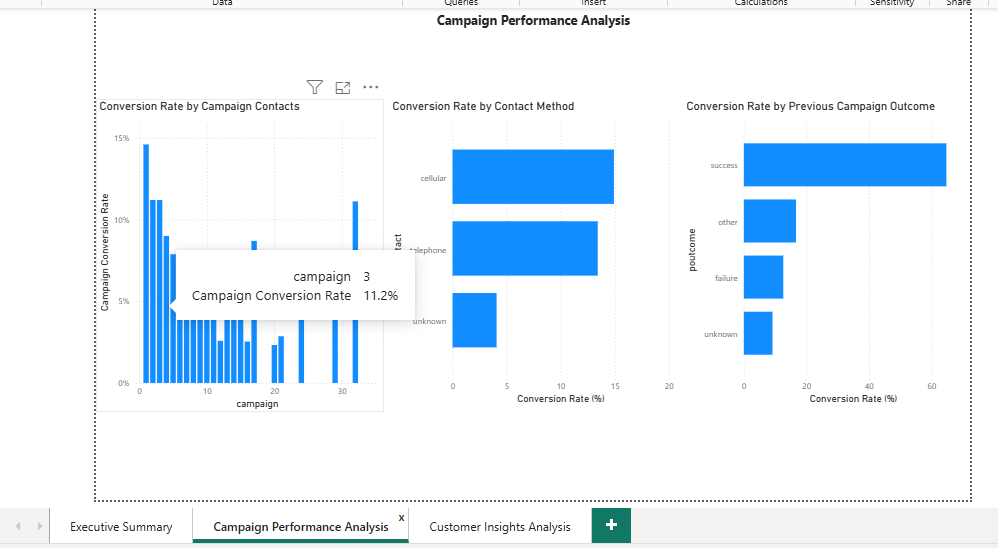

The dashboard page shown, as its layout file describes it:
{"tool":"powerbi","page":{"name":"Campaign Performance Analysis","canvas":[1280,720],"ordinal":1},"visuals":[{"type":"textbox","box":[0,0,1280,45.4],"z":0},{"type":"clusteredColumnChart","title":"Conversion Rate by Campaign Contacts","fields":{"Category":["bank_marketing_cleaned.campaign"],"Y":["bank_marketing_cleaned.Campaign Conversion Rate"]},"box":[0,132.7,421.6,458.6],"z":1000},{"type":"clusteredBarChart","title":"Conversion Rate by Contact Method","fields":{"Category":["bank_marketing_cleaned.contact"],"Y":["bank_marketing_cleaned.Conversion Rate (%)"]},"box":[428.3,132.7,421.6,451.9],"z":2000},{"type":"clusteredBarChart","title":"Conversion Rate by Previous Campaign Outcome","fields":{"Category":["bank_marketing_cleaned.poutcome"],"Y":["bank_marketing_cleaned.Conversion Rate (%)"]},"box":[858.4,132.7,421.6,451.9],"z":3000}]}

Visuals, with their boxes on the page's 1280x720 design canvas (x1, y1, x2, y2). These are canvas units, not pixel positions in the 998x548 screenshot, which may show the page scaled, cropped or inside an application window:
textbox: {"left": 0, "top": 0, "right": 1280, "bottom": 45}
"Conversion Rate by Campaign Contacts" clusteredColumnChart: {"left": 0, "top": 133, "right": 422, "bottom": 591}
"Conversion Rate by Contact Method" clusteredBarChart: {"left": 428, "top": 133, "right": 850, "bottom": 585}
"Conversion Rate by Previous Campaign Outcome" clusteredBarChart: {"left": 858, "top": 133, "right": 1280, "bottom": 585}
